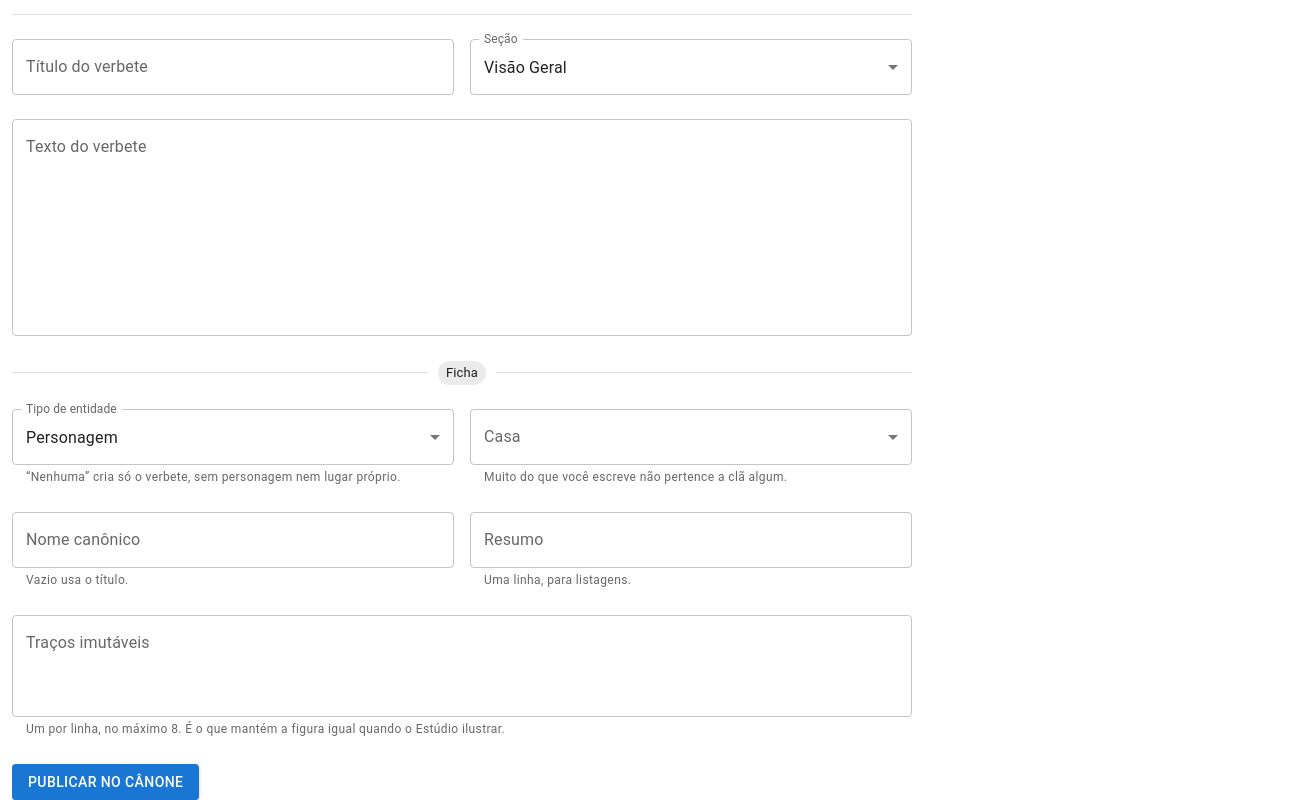
EscribaTab › não publica sem título nem corpo
The image size is (1292, 800).
(page scrolled)
Click the button "Publicar no cânone" at (106, 782), box [12,764,199,799]
(page scrolled)
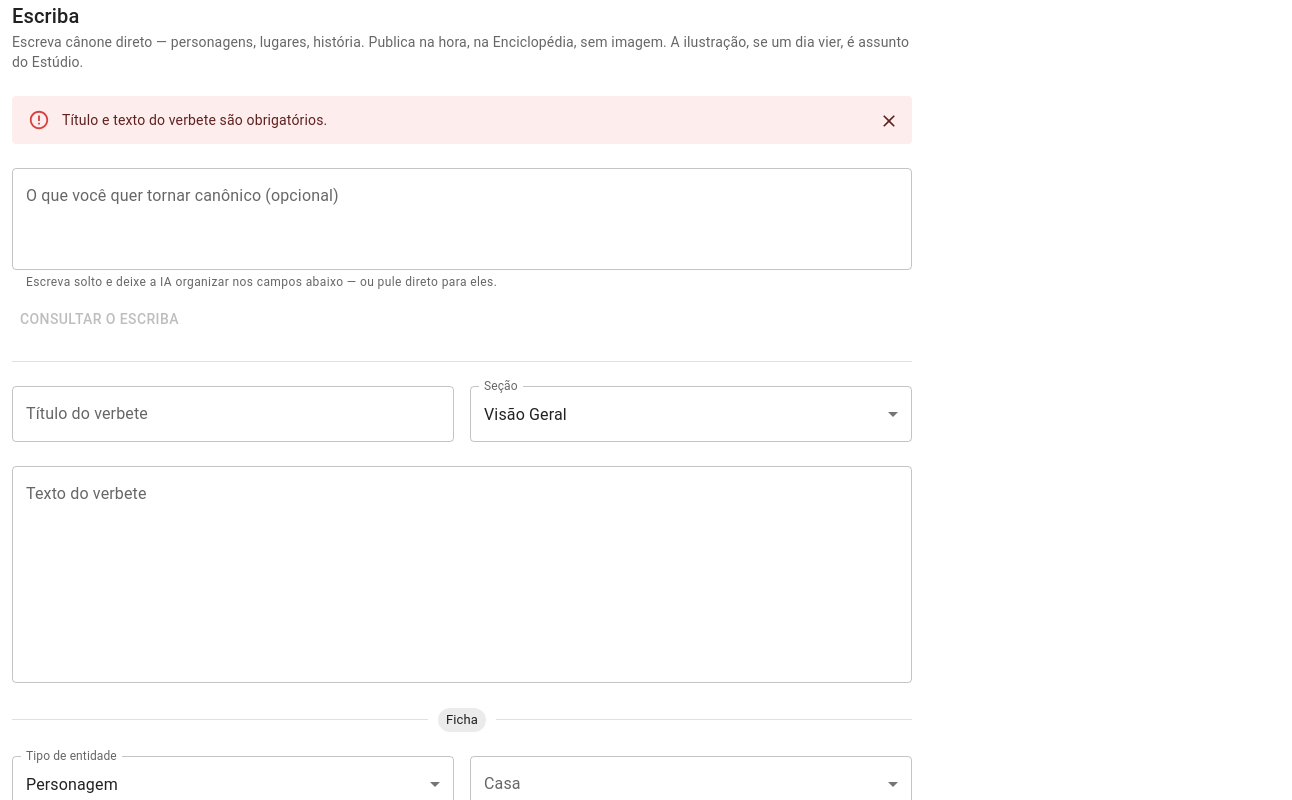
Expected: the text "Título e texto do verbete são obrigatórios." is shown, [62,112,327,128]
